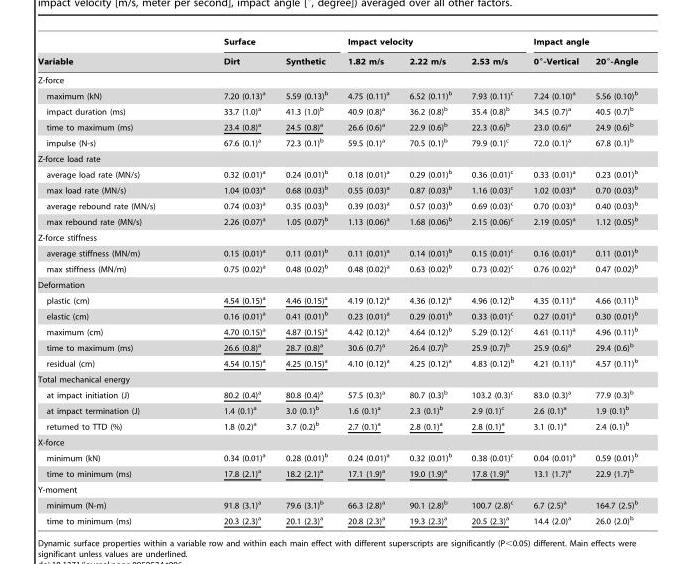table: (37, 37, 637, 525)
table column: (37, 37, 188, 525), (188, 37, 274, 525), (274, 37, 337, 525), (398, 37, 461, 525), (523, 37, 586, 525), (461, 37, 523, 525), (337, 37, 398, 525), (586, 37, 637, 525)
table column header: (37, 37, 637, 71)
table projected row header: (37, 71, 637, 87), (37, 150, 637, 165), (37, 229, 637, 244), (37, 276, 637, 291), (37, 371, 637, 386), (37, 434, 637, 449), (37, 481, 637, 496)
table row: (37, 50, 637, 71), (37, 354, 637, 371), (37, 417, 637, 434), (37, 71, 637, 87), (37, 102, 637, 118), (37, 118, 637, 134), (37, 134, 637, 150), (37, 165, 637, 181), (37, 181, 637, 197), (37, 197, 637, 213), (37, 213, 637, 229), (37, 244, 637, 260), (37, 260, 637, 276), (37, 291, 637, 307), (37, 307, 637, 323), (37, 323, 637, 339), (37, 386, 637, 402), (37, 449, 637, 465), (37, 465, 637, 481), (37, 496, 637, 512), (37, 87, 637, 102), (37, 150, 637, 165), (37, 229, 637, 244), (37, 276, 637, 291), (37, 339, 637, 354), (37, 371, 637, 386), (37, 402, 637, 417), (37, 434, 637, 449), (37, 481, 637, 496), (37, 37, 637, 50), (37, 512, 637, 525)
table spanning cell: (37, 37, 188, 71), (337, 37, 523, 50), (188, 37, 337, 50), (523, 37, 637, 50)
